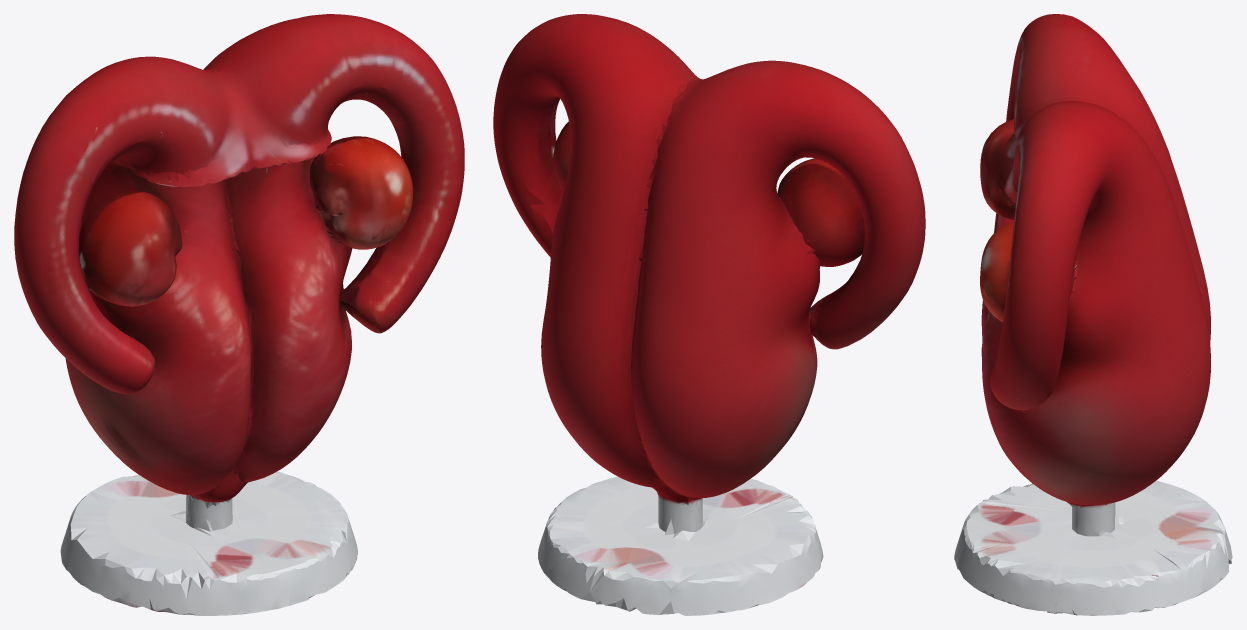
Rendered from dog_uterus.glb.
3 renders of one model, left to right at view 1: azimuth 30°, elevation 25°; view 2: azimuth 150°, elevation 25°; view 3: azimuth 270°, elevation 25°, orthographic. The views are drawn at different scales.
Parts seen in each view (by area): view 1: model; view 2: model; view 3: model.
Part boxes in pixels (<box>): model: <box>14,14,464,615</box>; model: <box>493,14,925,615</box>; model: <box>954,14,1232,615</box>.
Size of the model in its own units: 1.68 by 1.9 by 0.9844.
1 material, 1 textured.
